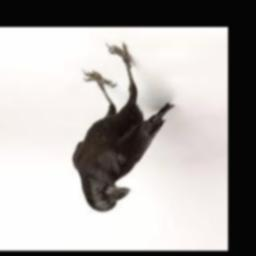Crow: (72, 41, 174, 213)
